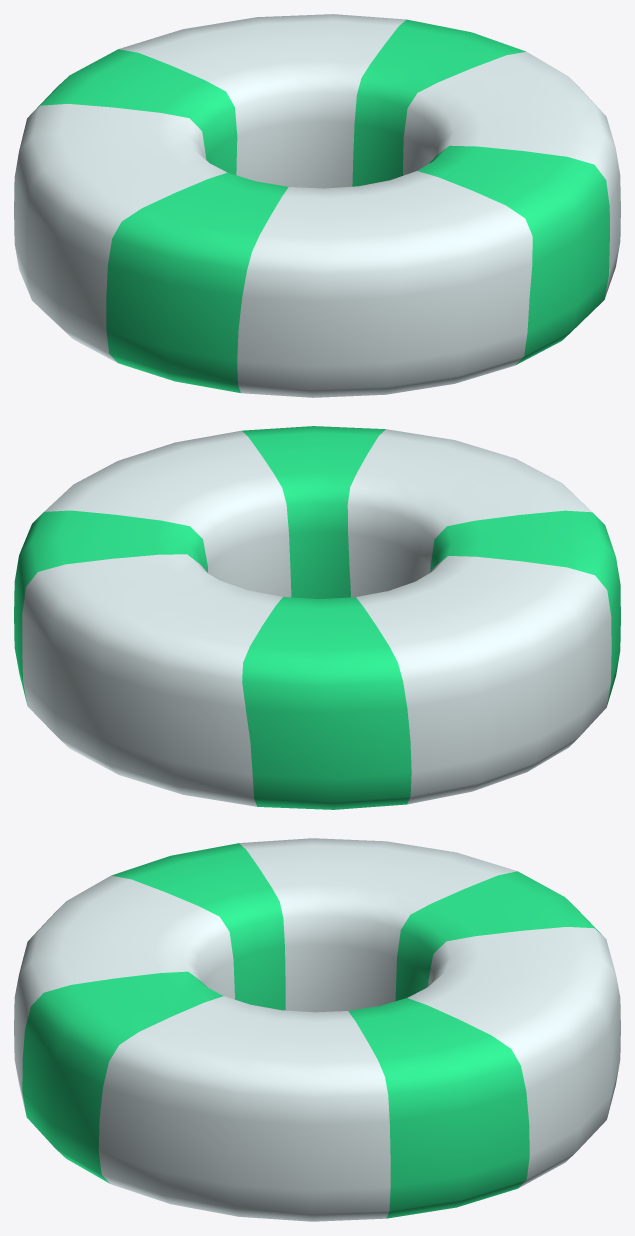
File: Mint_B_03.fbx
3 renders of one model, top to bottom at view 1: azimuth 30°, elevation 25°; view 2: azimuth 150°, elevation 25°; view 3: azimuth 270°, elevation 25°, orthographic.
Parts seen in each view (by area): view 1: Mint_B_03_LOD0; view 2: Mint_B_03_LOD0; view 3: Mint_B_03_LOD0.
Part boxes in pixels (<box>): Mint_B_03_LOD0: <box>14,14,620,397</box>; Mint_B_03_LOD0: <box>14,426,620,809</box>; Mint_B_03_LOD0: <box>14,838,620,1221</box>.
Size of what is drawn, in the model's own units: 326 by 91.42 by 326.
